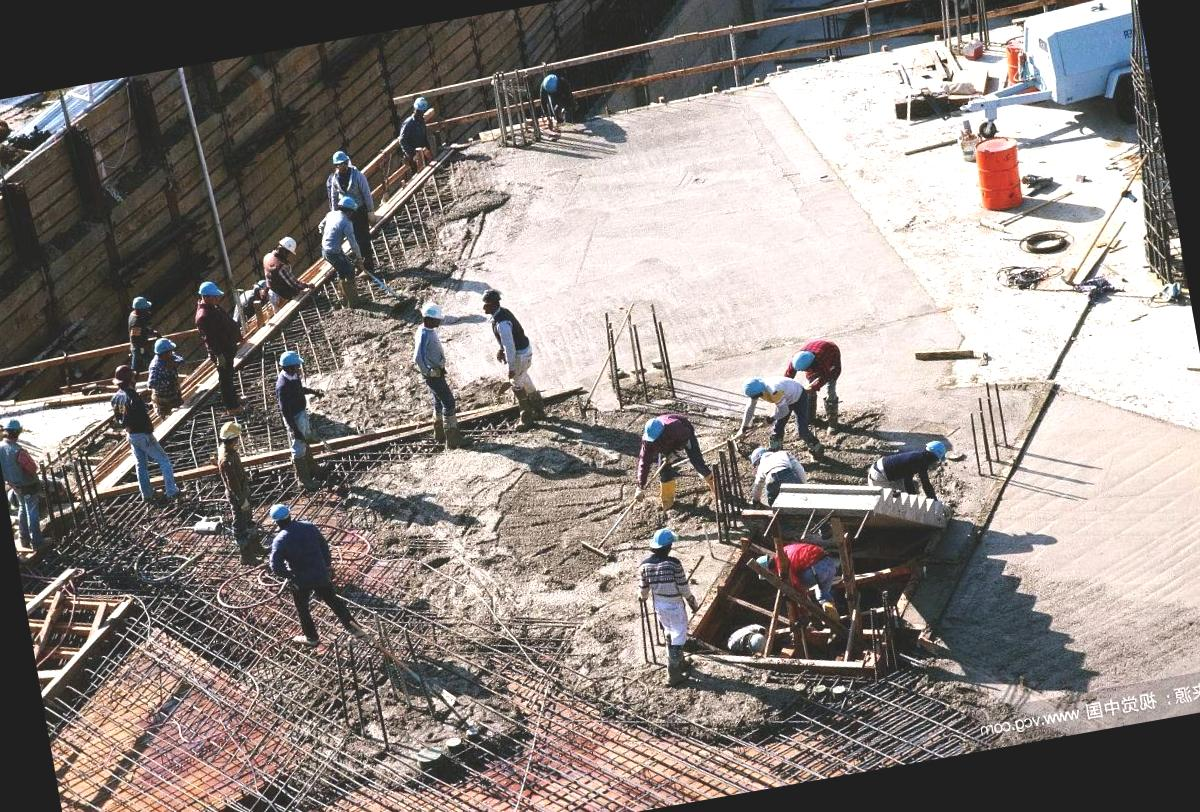person: (620, 524, 710, 686), (263, 492, 354, 641), (397, 292, 471, 448), (474, 276, 546, 428), (260, 343, 334, 482)
